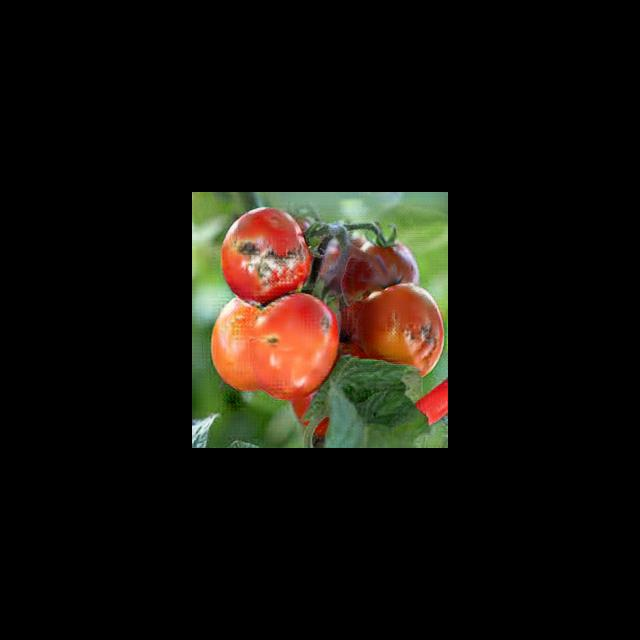tomato: (219, 208, 311, 303), (354, 285, 444, 378), (252, 297, 336, 395)
